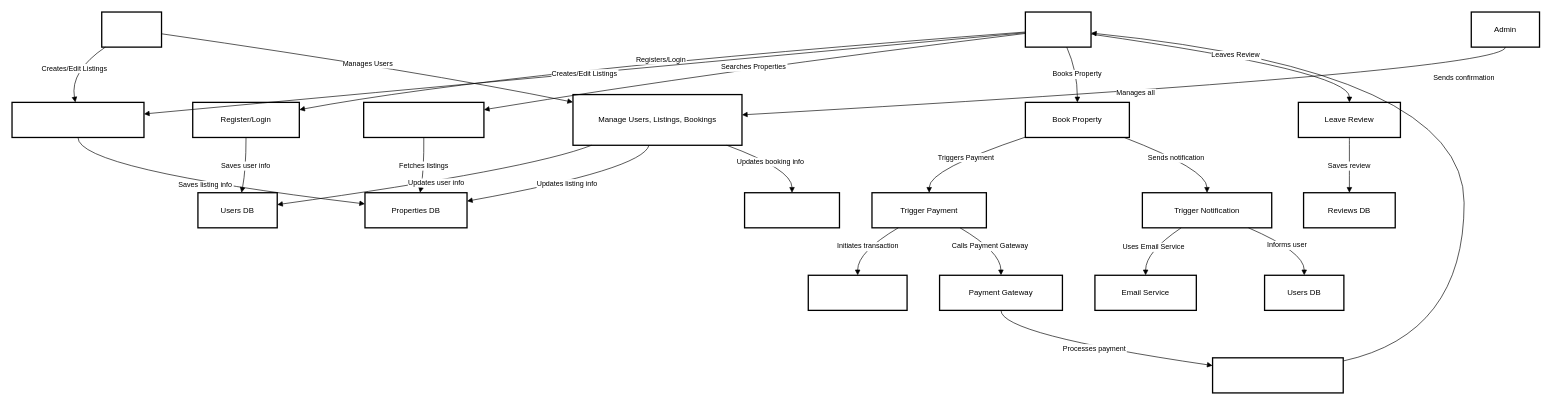
This 1551x404 diagram has some shape labels left out. The box of each missing label's shape, as (x1, y1, x2, y2) in pixels:
Bookings DB: (744, 192, 840, 228)
Create/Edit Listings: (11, 101, 144, 138)
Guest: (1024, 11, 1091, 47)
Host: (101, 11, 162, 47)
Payments DB: (807, 274, 907, 311)
Receive Payout Info: (1212, 357, 1344, 393)
Search Properties: (363, 101, 484, 138)
